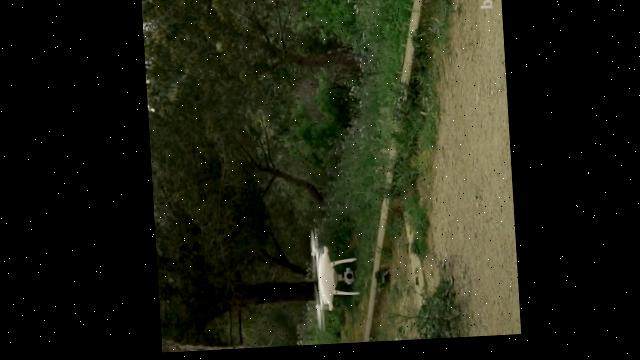drone: (303, 224, 356, 335)
